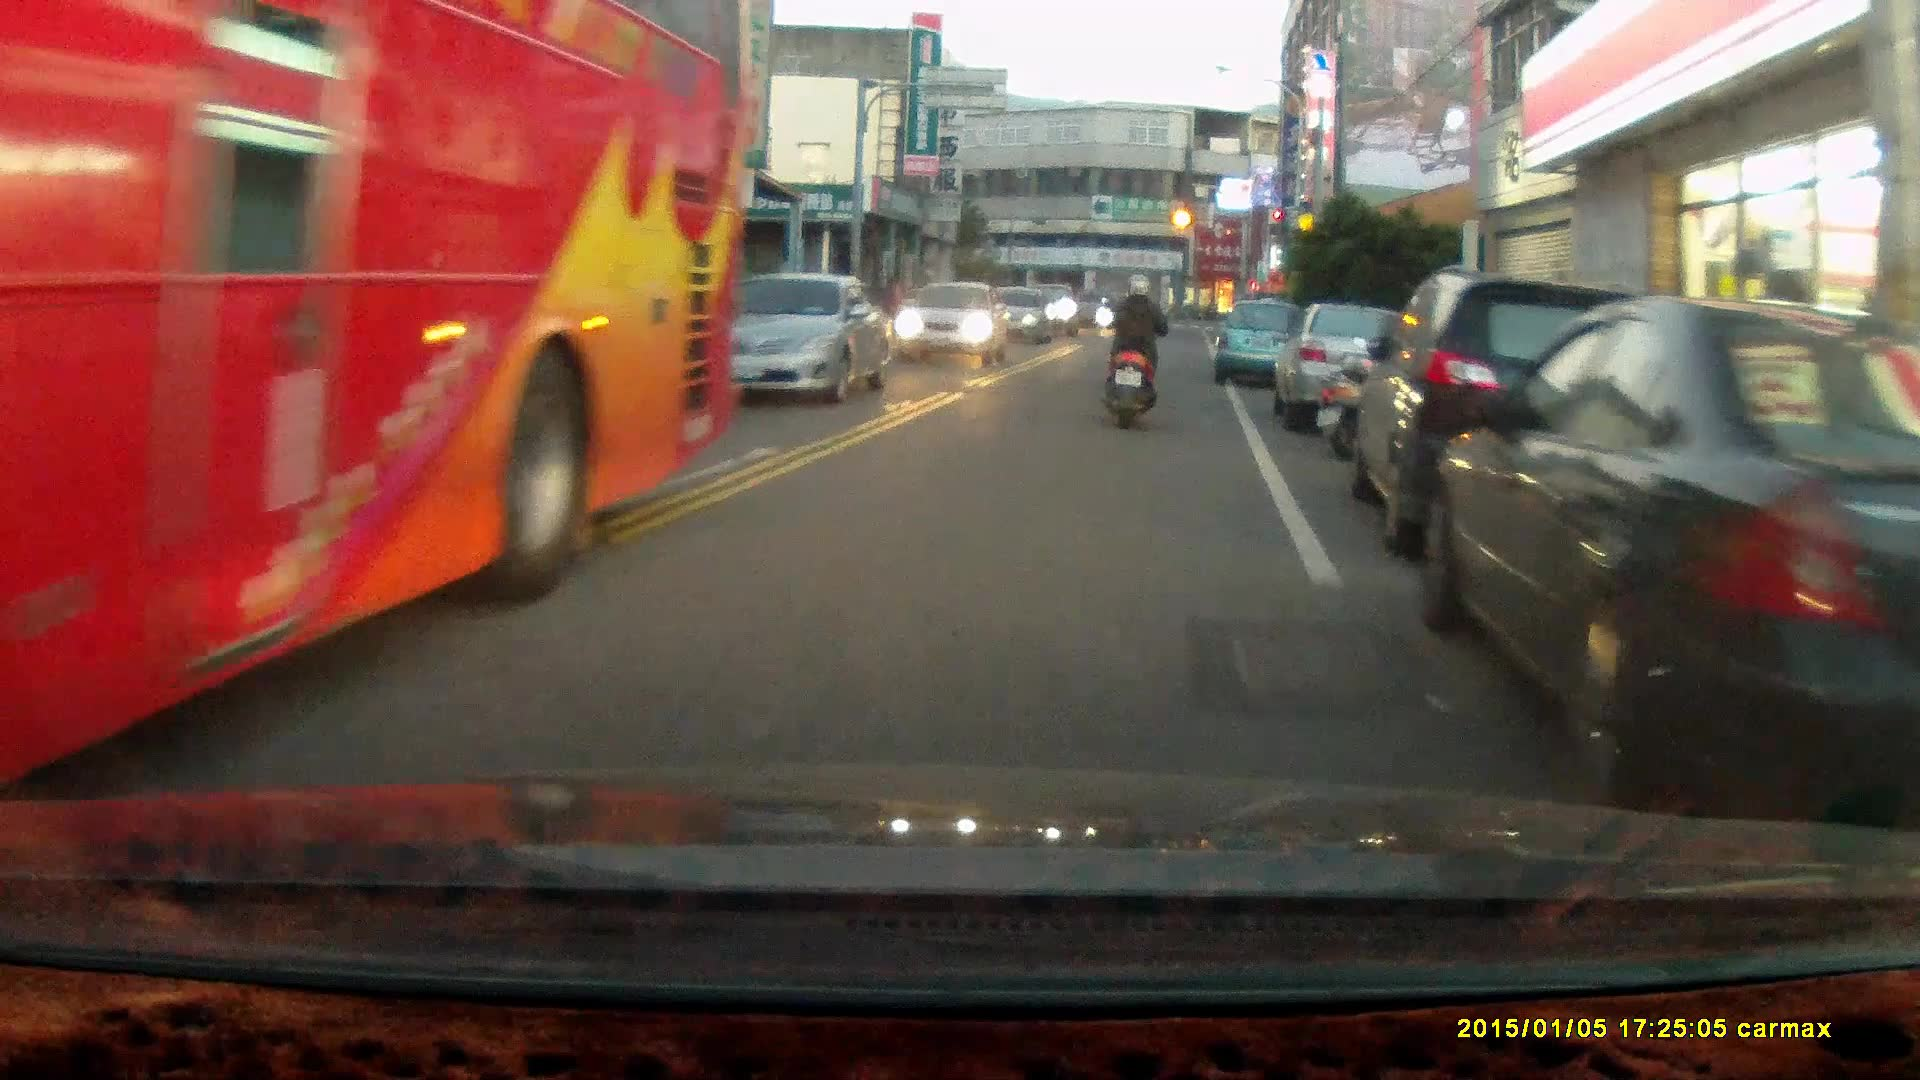rider: (1095, 271, 1167, 429)
vehicle: (1, 9, 746, 782), (1420, 295, 1920, 821), (1341, 264, 1760, 562), (680, 277, 887, 403), (1278, 304, 1450, 435), (894, 282, 1011, 370), (1209, 300, 1305, 388)
